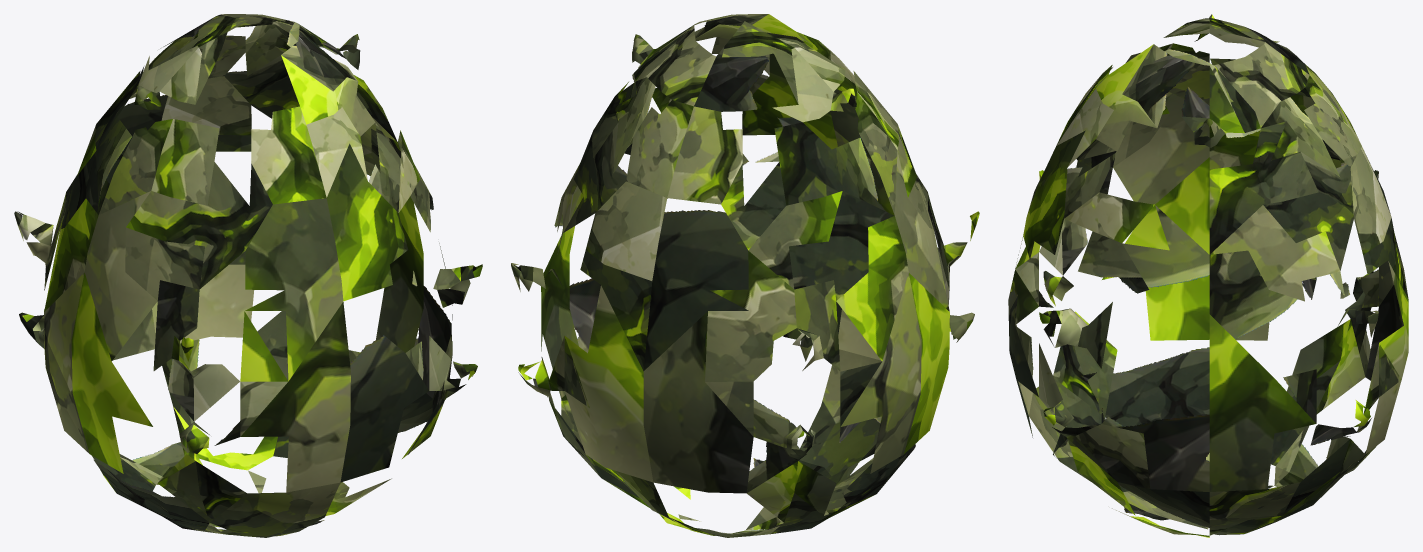
File: blight_egg.obj
3 renders of one model, left to right at view 1: azimuth 30°, elevation 25°; view 2: azimuth 150°, elevation 25°; view 3: azimuth 270°, elevation 25°, orthographic.
Parts seen in each view (by area): view 1: blight_egg; view 2: blight_egg; view 3: blight_egg.
Part boxes in pixels (x1=…): blight_egg: x1=14, y1=14, x2=482, y2=537; blight_egg: x1=511, y1=14, x2=979, y2=537; blight_egg: x1=1008, y1=14, x2=1408, y2=537.
Bounding box in the file's own units: 1.38 × 1.91 × 1.38.
